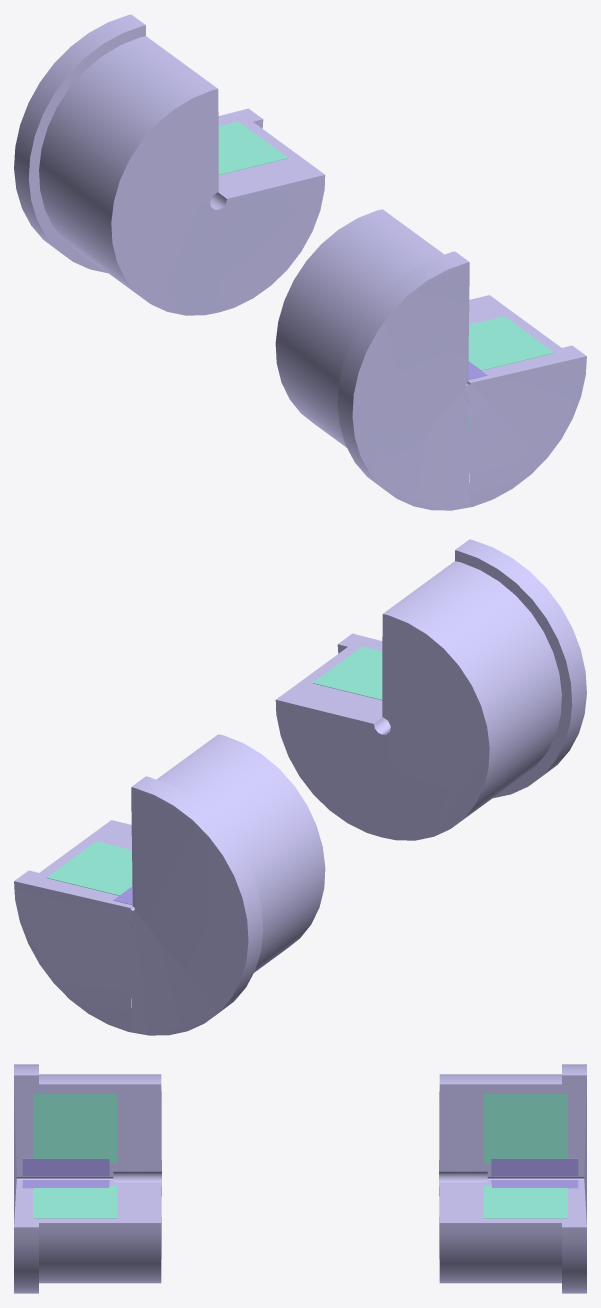
Rendered from calorimeter-lar-endcap-cut-3.glb.
3 views of the same model, one above another, from view 1: azimuth 30°, elevation 25°; view 2: azimuth 150°, elevation 25°; view 3: azimuth 270°, elevation 25° (orthographic). The views are drawn at different scales.
Visible parts, largest first — view 1: side c cut 3, side a cut 3; view 2: side a cut 3, side c cut 3; view 3: side a cut 3, side c cut 3.
Boxes of the visible parts, left/top/right/bottom form: side c cut 3: left=14, top=14, right=325, bottom=315; side a cut 3: left=275, top=209, right=586, bottom=510; side a cut 3: left=275, top=539, right=586, bottom=840; side c cut 3: left=14, top=734, right=325, bottom=1035; side a cut 3: left=14, top=1064, right=161, bottom=1293; side c cut 3: left=439, top=1064, right=586, bottom=1293.
Bounding box in the file's own units: 4.94 × 4.95 × 12.36.
